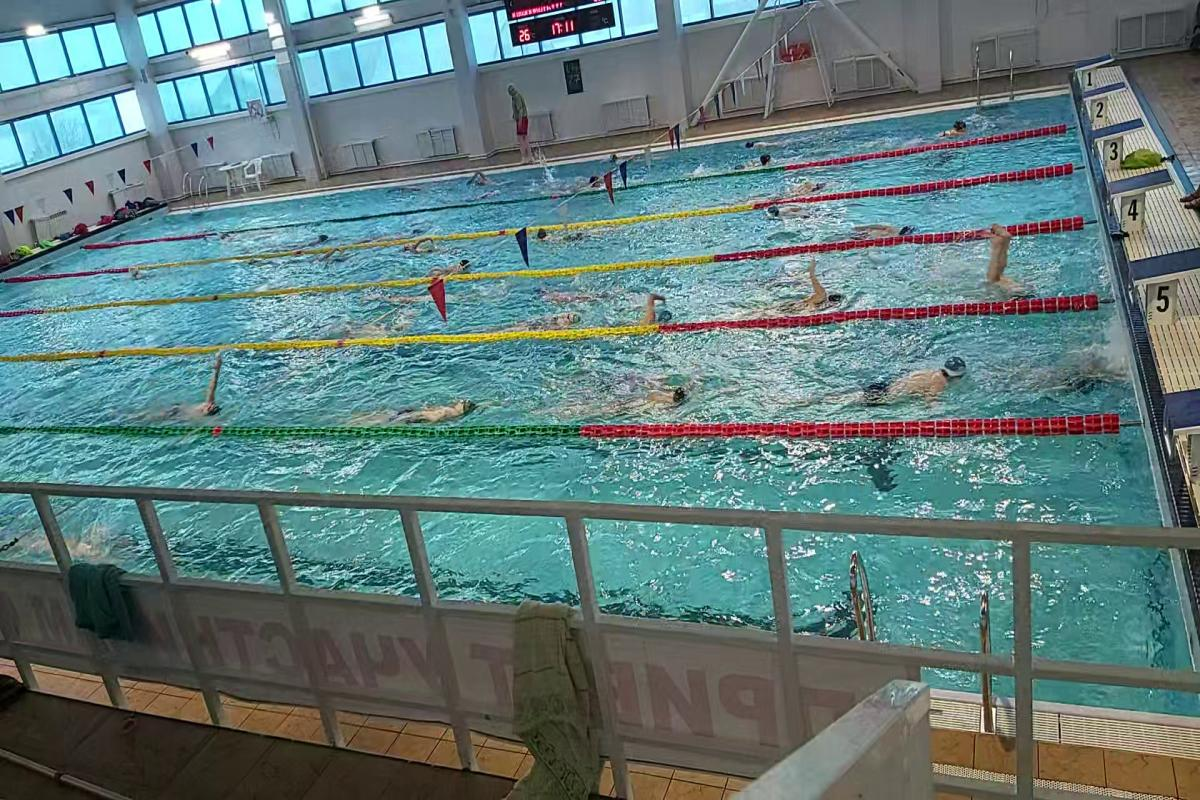swimmer: (800, 346, 978, 413), (572, 368, 702, 422), (344, 384, 489, 424), (151, 356, 238, 422), (760, 258, 858, 314), (609, 284, 680, 326), (508, 306, 586, 330), (761, 199, 825, 228), (850, 214, 918, 236), (532, 225, 606, 245), (415, 253, 476, 274), (312, 245, 356, 265), (396, 237, 448, 253)
